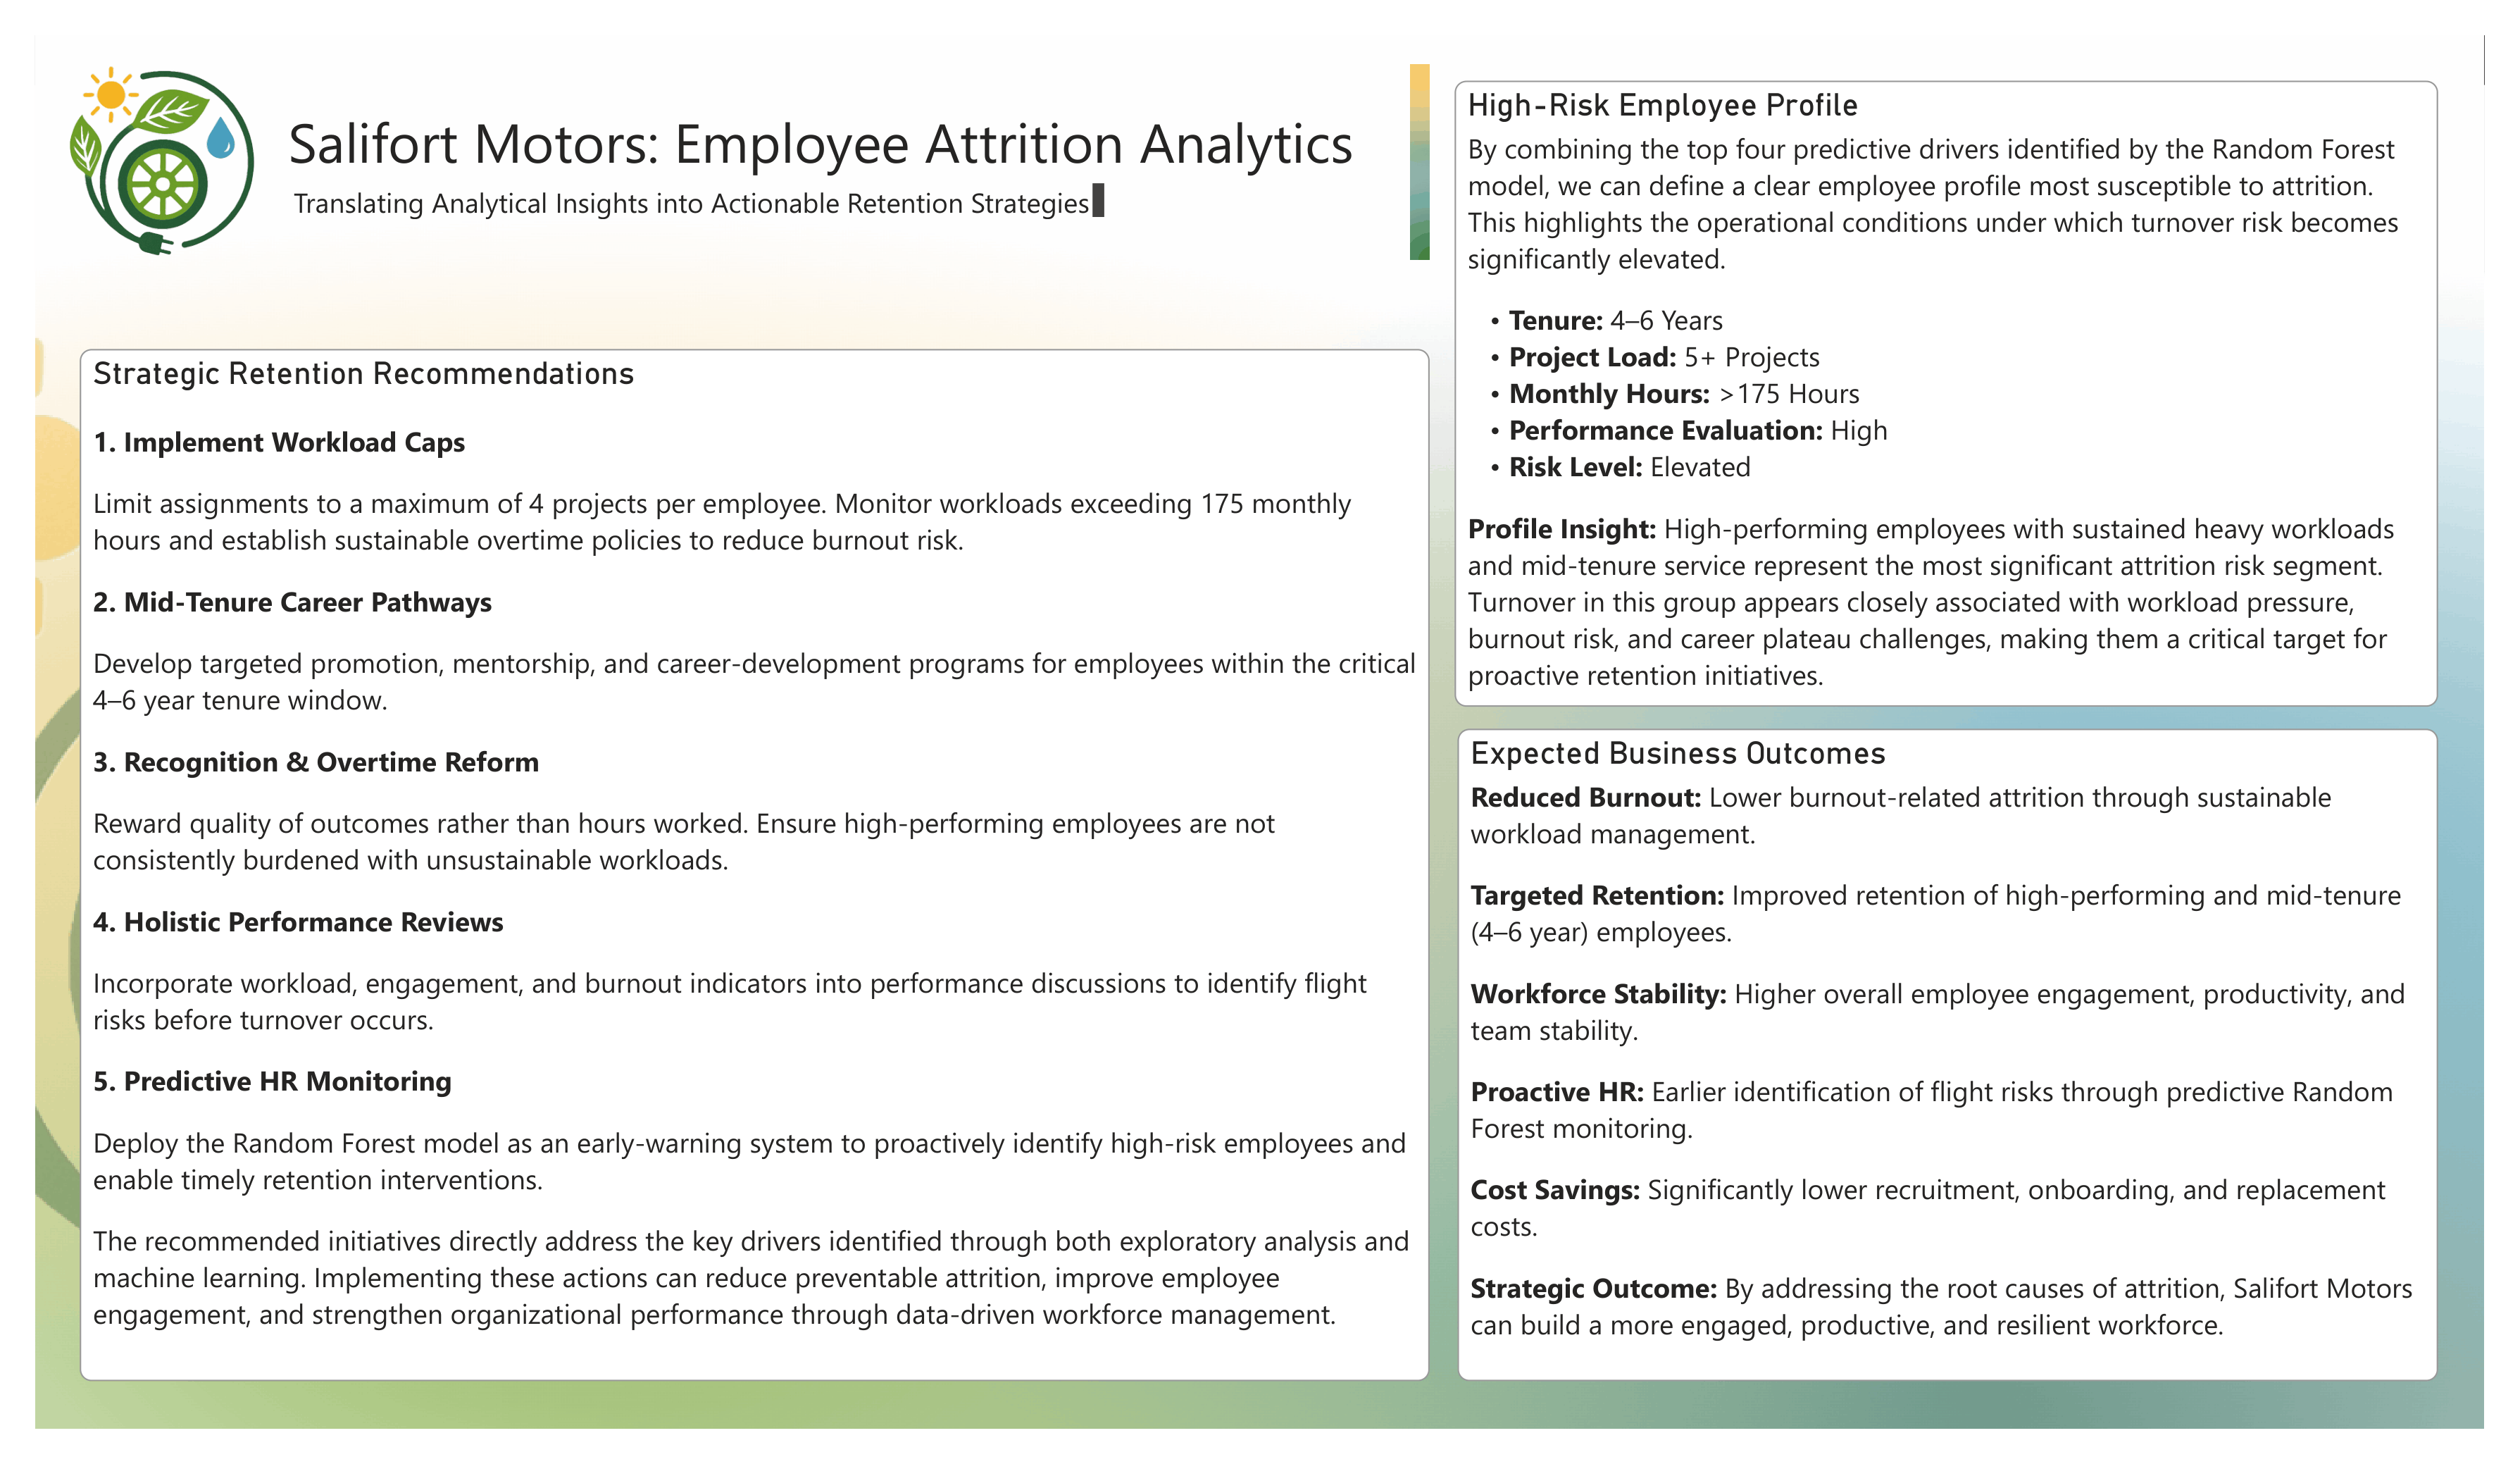

The dashboard page shown, as its layout file describes it:
{"tool":"powerbi","page":{"name":"Strategic Retention Recommendations","canvas":[1670,950],"ordinal":3},"visuals":[{"type":"image","box":[0,180.7,545,737.1],"z":0},{"type":"image","box":[937.6,19.7,13.7,133.5],"z":1000},{"type":"textbox","box":[167,42.2,759.8,78.8],"z":2000},{"type":"textbox","box":[171.4,95.6,562.8,34.9],"z":3000},{"type":"image","box":[13.1,17.2,145.3,138.1],"z":4000},{"type":"textbox","title":"Strategic Retention Recommendations","box":[30.3,213.9,920.9,703.9],"z":5000},{"type":"textbox","title":"High-Risk Employee Profile","box":[968.4,30.6,670.6,427.1],"z":6000},{"type":"textbox","title":"Expected Business Outcomes","box":[969.8,473.1,669.2,445.2],"z":7000}]}

Visuals, with their boxes on the page's 1670x950 design canvas (x1, y1, x2, y2). These are canvas units, not pixel positions in the 2520x1464 screenshot, which may show the page scaled, cropped or inside an application window:
image: (0, 181, 545, 918)
image: (938, 20, 951, 153)
textbox: (167, 42, 927, 121)
textbox: (171, 96, 734, 130)
image: (13, 17, 158, 155)
"Strategic Retention Recommendations" textbox: (30, 214, 951, 918)
"High-Risk Employee Profile" textbox: (968, 31, 1639, 458)
"Expected Business Outcomes" textbox: (970, 473, 1639, 918)
